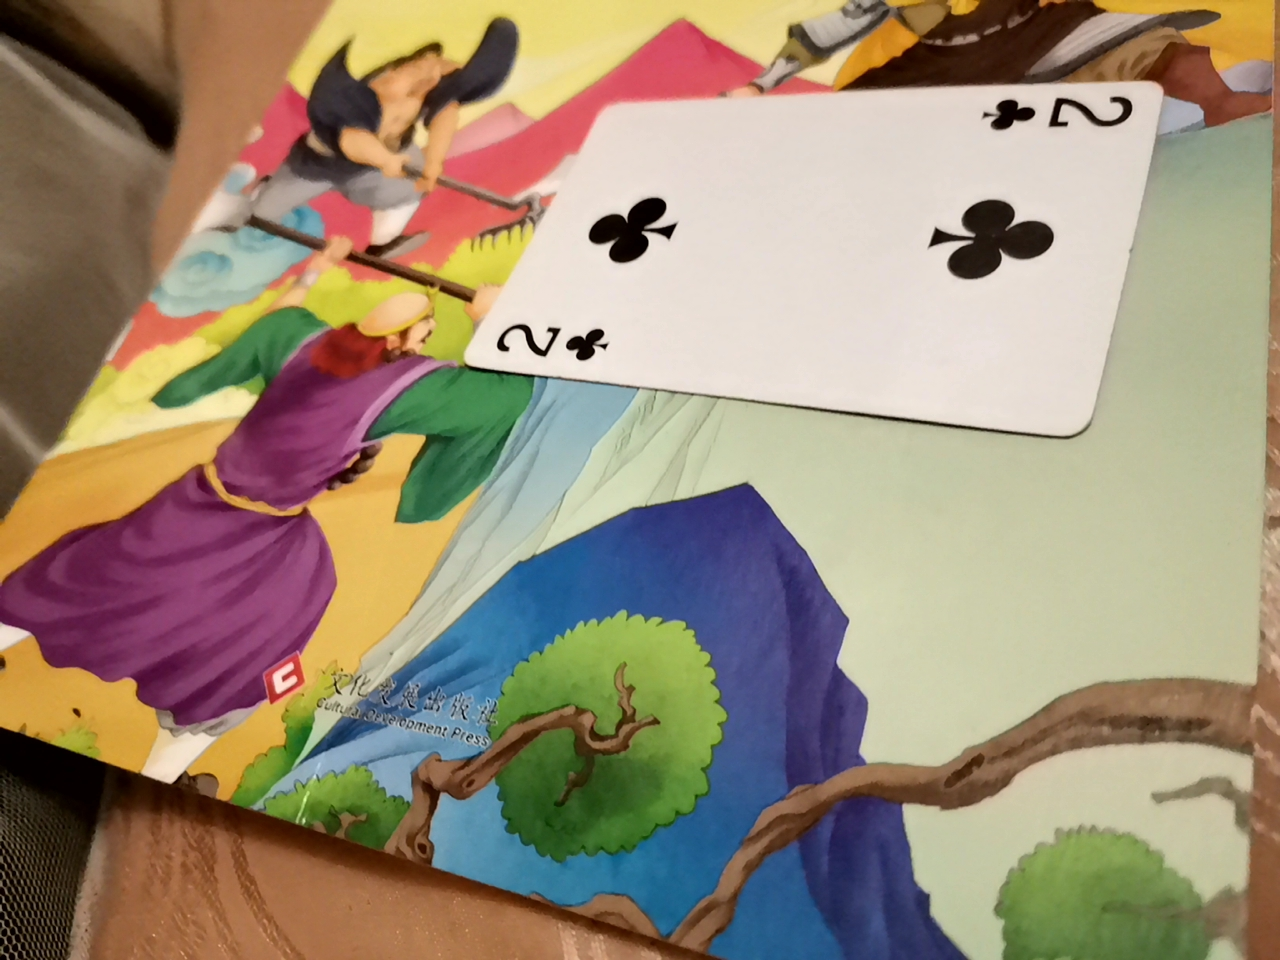mh 2: (446, 75, 1123, 451)
